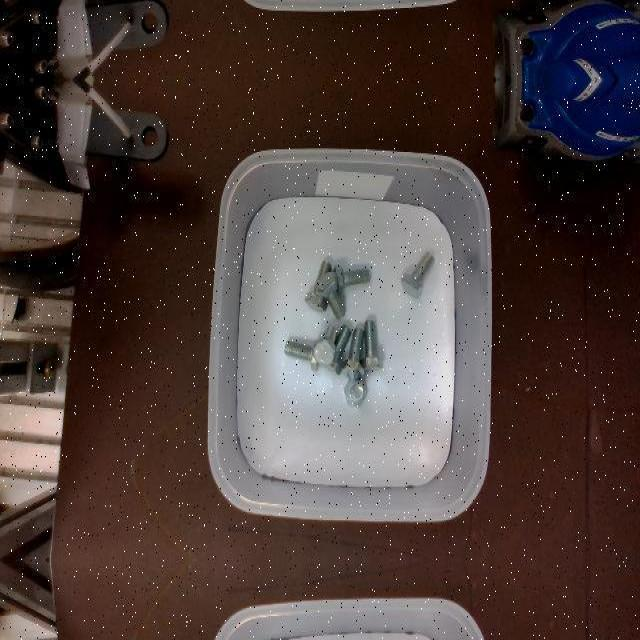screw: (400, 250, 434, 296), (316, 271, 345, 319), (359, 319, 383, 369), (333, 264, 369, 290), (313, 326, 336, 364), (344, 378, 368, 406)
